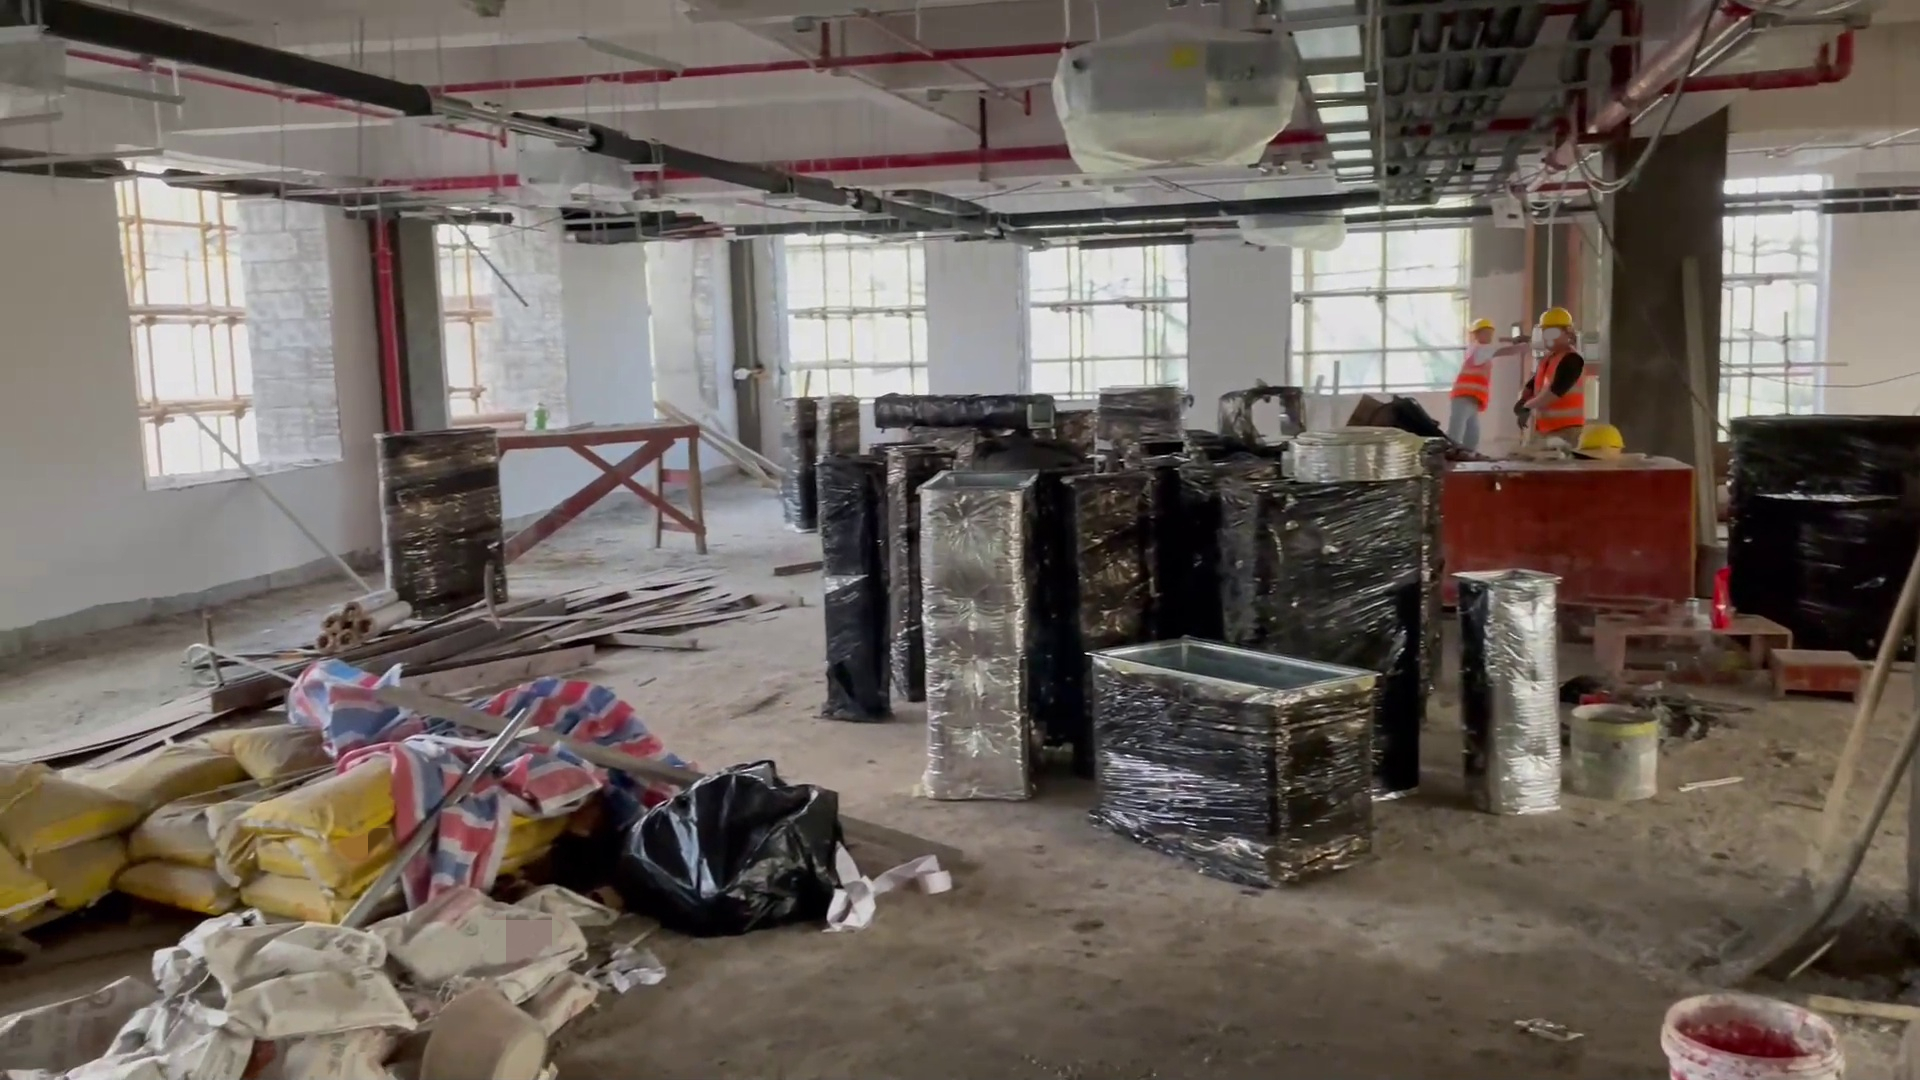helmet: (1573, 412, 1628, 451), (1537, 305, 1576, 332), (1466, 314, 1506, 330)
person: (1511, 313, 1606, 460), (1447, 309, 1490, 464)
vest: (1523, 345, 1588, 426), (1448, 343, 1504, 407)
